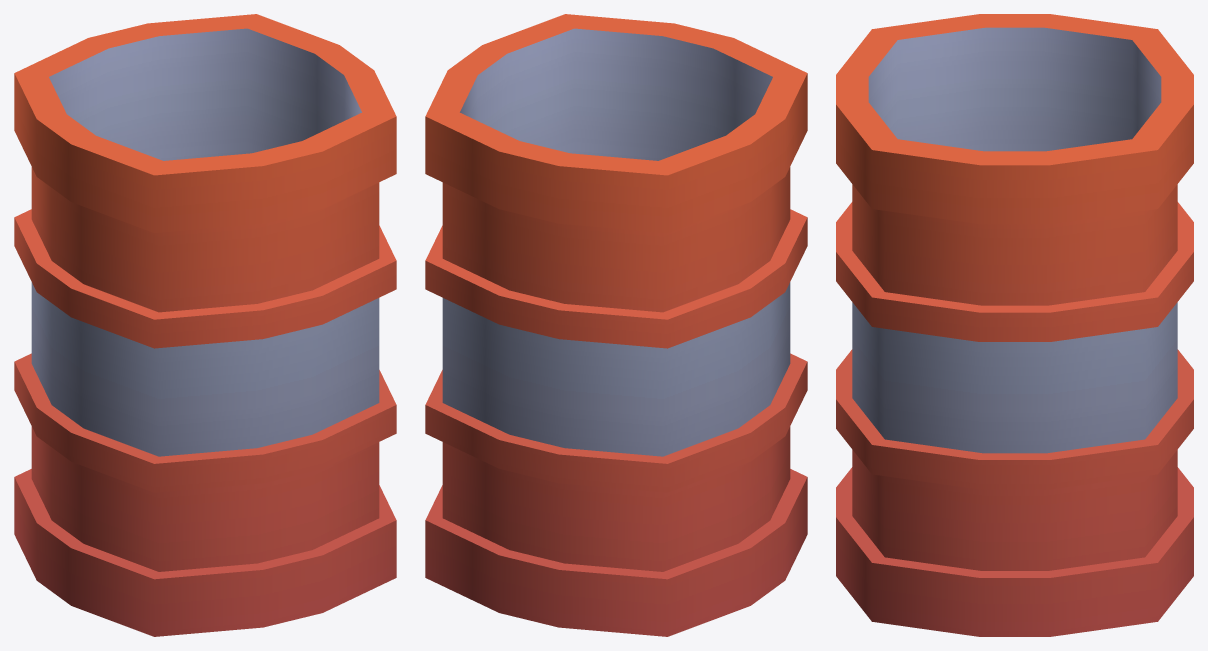
The model's file is barrel-open.glb.
3 renders of one model, left to right at view 1: azimuth 30°, elevation 25°; view 2: azimuth 150°, elevation 25°; view 3: azimuth 270°, elevation 25°, orthographic. The views are drawn at different scales.
Parts seen in each view (by area): view 1: barrel-open; view 2: barrel-open; view 3: barrel-open.
Part boxes in pixels (bbox=[...]): barrel-open: bbox=[14, 14, 396, 636]; barrel-open: bbox=[425, 14, 807, 636]; barrel-open: bbox=[836, 14, 1193, 636].
Size of the model in its own units: 0.2365 by 0.344 by 0.2365.
1 material, 1 textured.
